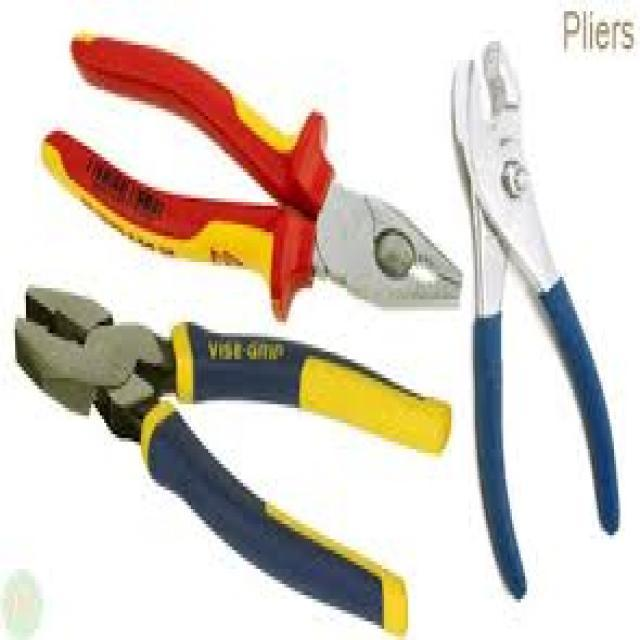pliers: (0, 266, 456, 636), (35, 13, 472, 332), (437, 31, 626, 608)
